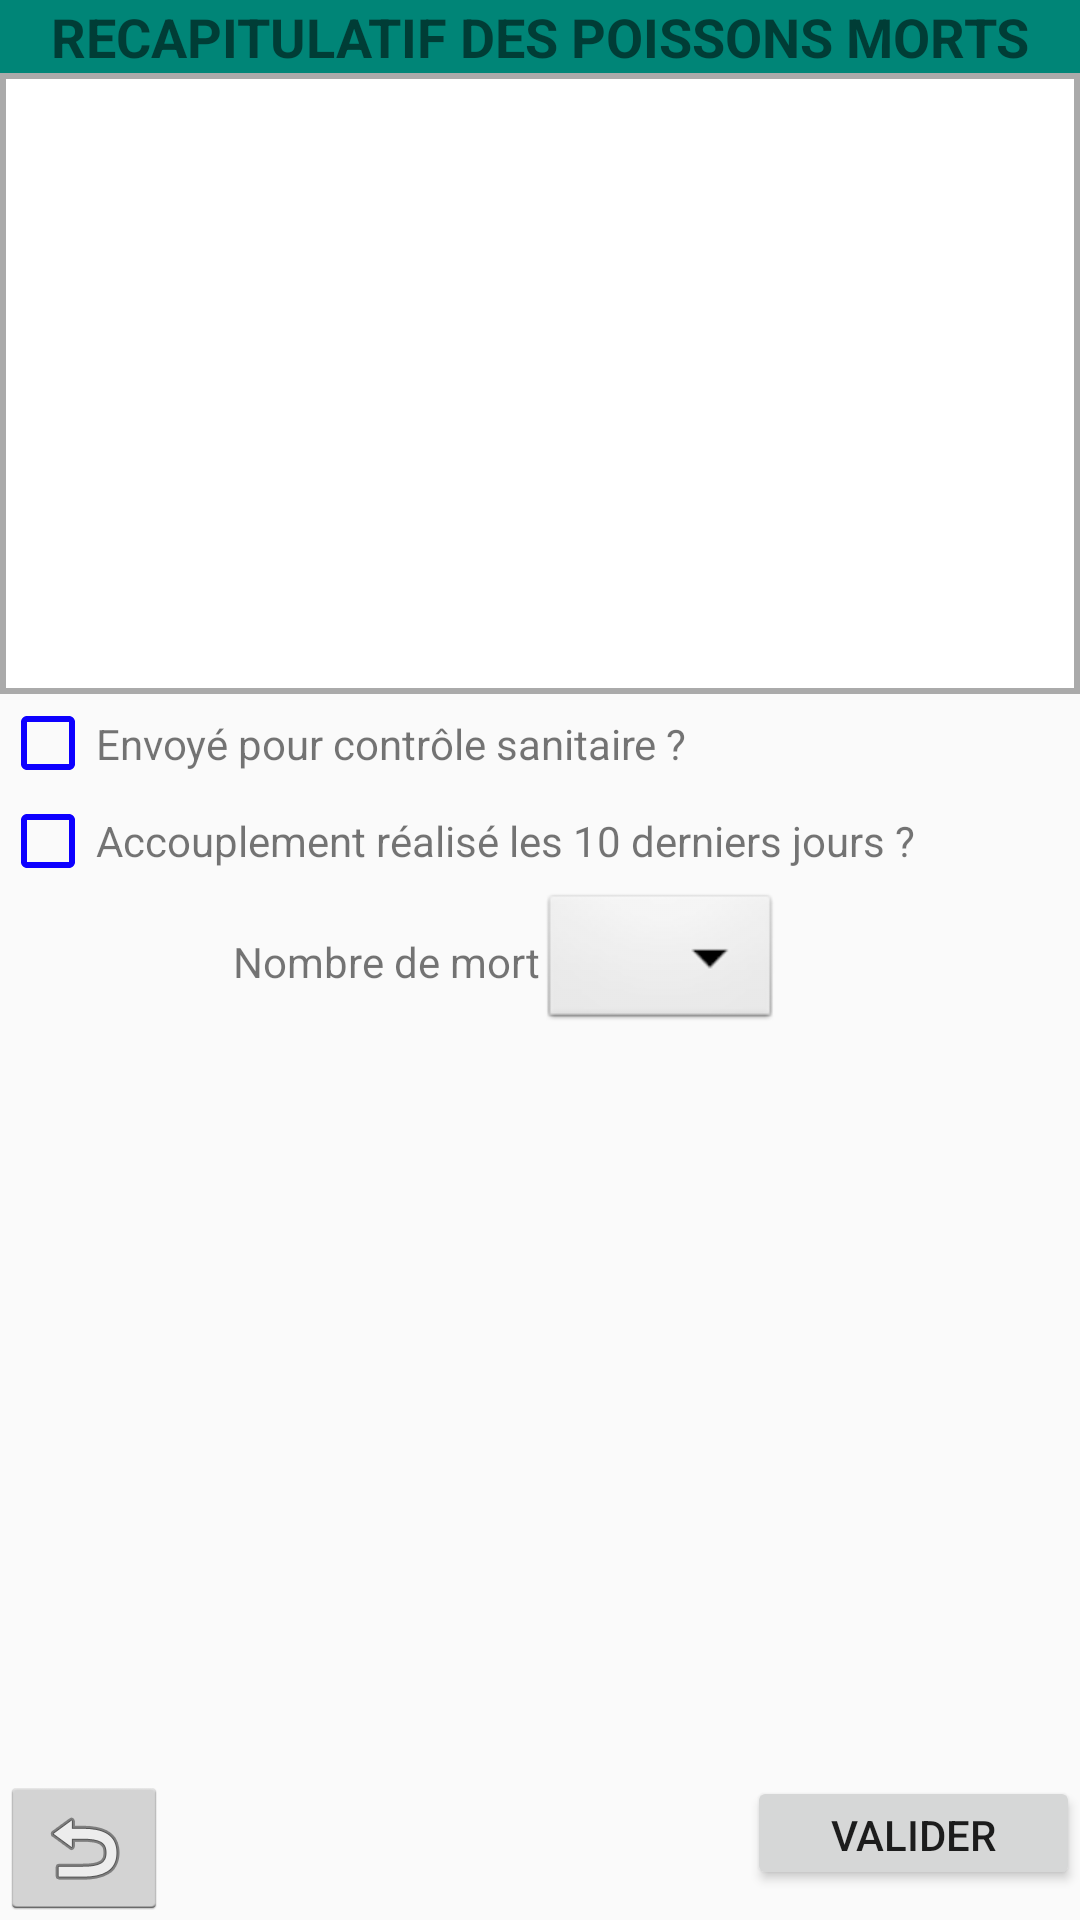

Icon click points for this 1080x1920 phone screenshot, format (x,y):
revert: (84,1849)
